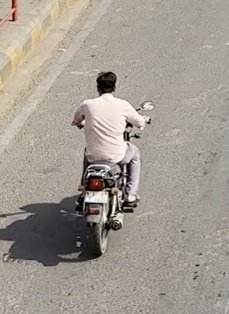BikeWithRider: (67, 67, 156, 259)
NoHelmet: (91, 67, 122, 100)
